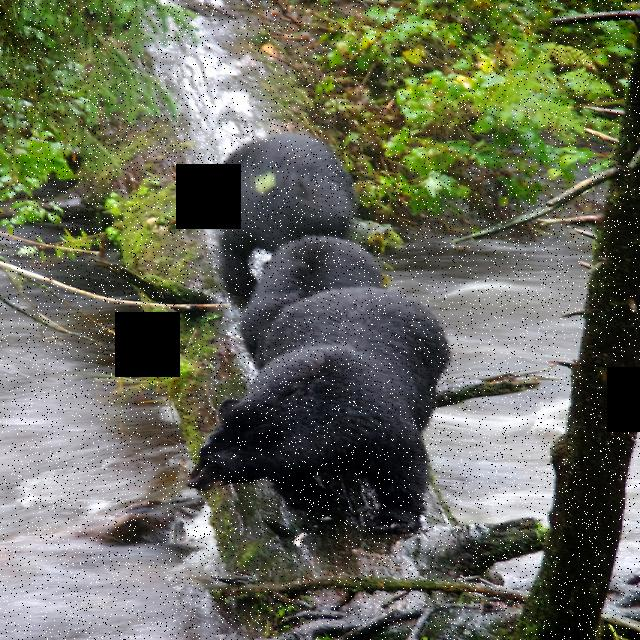Bear: (192, 289, 452, 544), (202, 127, 370, 284)
